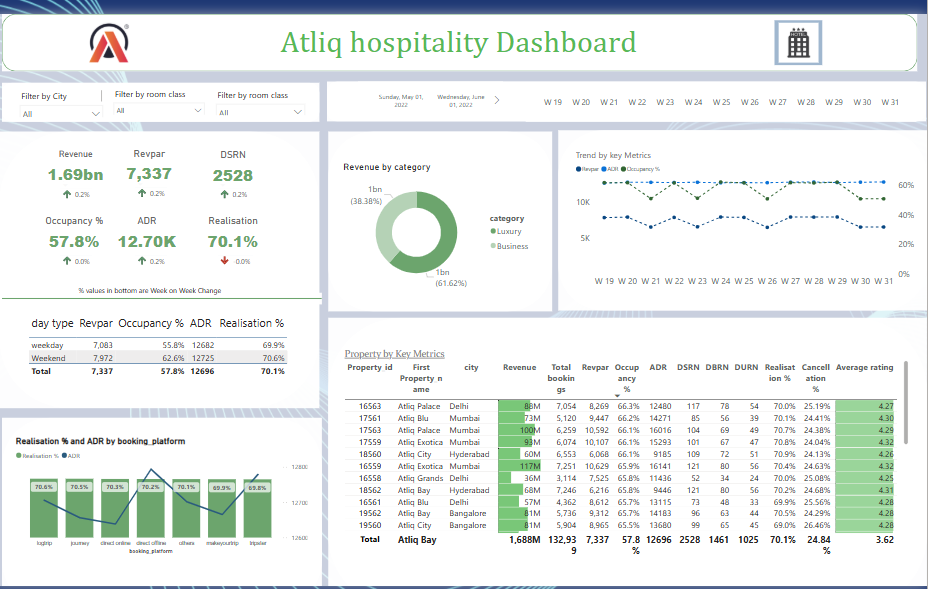

This screenshot's page, from the dashboard's own definition file:
{"tool":"powerbi","page":{"name":"Home","canvas":[1800,1100],"ordinal":2},"visuals":[{"type":"shape","box":[646.9,585.7,1153.1,559.2],"z":0},{"type":"shape","box":[1089.8,224.5,710.2,346.9],"z":1000},{"type":"shape","box":[647,226.7,431.3,346.5],"z":2000},{"type":"shape","box":[18.4,777.6,616.3,367.3],"z":3000},{"type":"shape","box":[14.7,226.7,615.6,532.7],"z":4000},{"type":"shape","box":[646.2,130.8,1153.8,76.9],"z":5000},{"type":"shape","box":[19.2,132.7,611.5,75],"z":6000},{"type":"pivotTable","title":"Property by Key Metrics","fields":{"Rows":["dim_hotels.property_id"],"Values":["Min(dim_hotels.Property_name)","Min(dim_hotels.city)","dim_date.Revenue","dim_date.total bookings","dim_date.Revpar","dim_date.Occupancy %","dim_date.ADR","dim_date.DSRN","dim_date.DBRN","dim_date.DURN","dim_date.Realisation %","dim_date.Cancellation %"]},"box":[678.3,643.3,1085.6,401.8],"z":7000},{"type":"slicer","fields":{"Values":["dim_hotels.City"]},"box":[44.2,141.9,180.6,57.1],"z":8000},{"type":"slicer","fields":{"Values":["dim_date.mmm yy"]},"box":[704.1,130.9,278.3,71.9],"z":9000},{"type":"slicer","fields":{"Values":["dim_rooms.room_class"]},"box":[224.9,138.2,195.4,57.1],"z":10000},{"type":"slicer","fields":{"Values":["dim_rooms.room_class"]},"box":[420.2,140.1,191.7,55.3],"z":11000},{"type":"donutChart","fields":{"Category":["dim_hotels.category"],"Y":["dim_date.Revenue"]},"box":[672.8,283.8,377.9,252.5],"z":12000},{"type":"lineChart","title":"Trend by key Metrics","fields":{"Category":["dim_date.mmm yy.Variation.Date Hierarchy.Year","dim_date.mmm yy.Variation.Date Hierarchy.Month","dim_date.week no"],"Y":["dim_date.Revpar","dim_date.ADR"],"Y2":["dim_date.Occupancy %"]},"box":[1118.8,259.9,661.7,276.5],"z":13000},{"type":"lineStackedColumnComboChart","fields":{"Category":["fact_bookings.booking_platform"],"Y":["dim_date.Realisation %"],"Y2":["dim_date.ADR"]},"box":[40.5,811,571.4,234.1],"z":14000},{"type":"tableEx","fields":{"Values":["dim_date.day type","dim_date.Revpar","dim_date.Occupancy %","dim_date.ADR","dim_date.Realisation %"]},"box":[64.5,573.2,532.7,140.1],"z":15000},{"type":"slicer","fields":{"Values":["dim_date.week no"]},"box":[1028.8,132.7,751.9,75],"z":16000},{"type":"tableEx","fields":{"Values":["dim_date.Occupancy WoW change %"]},"box":[125,431.3,75.6,60.8],"z":17000},{"type":"tableEx","fields":{"Values":["dim_date.Revenue WoW change %"]},"box":[429.5,304.1,81.1,60.8],"z":18000},{"type":"tableEx","fields":{"Values":["dim_date.ADR WoW change %"]},"box":[269.1,431.3,82.9,70],"z":19000},{"type":"tableEx","fields":{"Values":["dim_date.Realisation WoW change %"]},"box":[429.1,431.3,84.8,66.4],"z":20000},{"type":"tableEx","fields":{"Values":["dim_date.Revenue WoW change %"]},"box":[125.3,304.1,99.5,60.8],"z":21000},{"type":"card","title":"Revenue","fields":{"Values":["dim_date.Revenue"]},"box":[88.3,260.3,143.8,79.3],"z":22000},{"type":"tableEx","fields":{"Values":["dim_date.Revenue WoW change %"]},"box":[269.1,300.4,82.9,64.5],"z":23000},{"type":"card","title":"Revpar","fields":{"Values":["dim_date.Revpar"]},"box":[231.1,256.6,143.8,79.3],"z":24000},{"type":"card","title":"DSRN","fields":{"Values":["dim_date.DSRN"]},"box":[392.6,259.9,143.8,79.3],"z":25000},{"type":"card","title":"Occupancy %","fields":{"Values":["dim_date.Occupancy %"]},"box":[87.4,387.4,143.8,79.3],"z":26000},{"type":"card","title":"ADR","fields":{"Values":["dim_date.ADR"]},"box":[225.6,387.4,143.8,79.3],"z":27000},{"type":"card","title":"Realisation","fields":{"Values":["dim_date.Realisation %"]},"box":[393.3,387.4,143.8,79.3],"z":28000},{"type":"shape","box":[18.4,536.4,615.6,22.1],"z":29000},{"type":"textbox","box":[162.2,517.9,302.3,29.5],"z":30000},{"type":"shape","box":[18.4,0,1762.1,110.6],"z":31000},{"type":"textbox","box":[536.4,11.1,724.4,86.6],"z":32000},{"type":"image","box":[158.5,11.1,134.6,86.6],"z":33000},{"type":"image","box":[1505.9,11.1,92.2,86.6],"z":34000}]}

Visuals, with their boxes on the page's 1800x1100 design canvas (x1, y1, x2, y2). These are canvas units, not pixel positions in the 929x589 screenshot, which may show the page scaled, cropped or inside an application window:
shape: box(647, 586, 1800, 1145)
shape: box(1090, 224, 1800, 571)
shape: box(647, 227, 1078, 573)
shape: box(18, 778, 635, 1145)
shape: box(15, 227, 630, 759)
shape: box(646, 131, 1800, 208)
shape: box(19, 133, 631, 208)
"Property by Key Metrics" pivotTable: box(678, 643, 1764, 1045)
slicer - dim_hotels.City: box(44, 142, 225, 199)
slicer - dim_date.mmm yy: box(704, 131, 982, 203)
slicer - dim_rooms.room_class: box(225, 138, 420, 195)
slicer - dim_rooms.room_class: box(420, 140, 612, 195)
donutChart - dim_hotels.category x dim_date.Revenue: box(673, 284, 1051, 536)
"Trend by key Metrics" lineChart: box(1119, 260, 1780, 536)
lineStackedColumnComboChart - fact_bookings.booking_platform x dim_date.Realisation %: box(40, 811, 612, 1045)
tableEx - dim_date.day type x dim_date.Revpar: box(64, 573, 597, 713)
slicer - dim_date.week no: box(1029, 133, 1781, 208)
tableEx - dim_date.Occupancy WoW change %: box(125, 431, 201, 492)
tableEx - dim_date.Revenue WoW change %: box(430, 304, 511, 365)
tableEx - dim_date.ADR WoW change %: box(269, 431, 352, 501)
tableEx - dim_date.Realisation WoW change %: box(429, 431, 514, 498)
tableEx - dim_date.Revenue WoW change %: box(125, 304, 225, 365)
"Revenue" card: box(88, 260, 232, 340)
tableEx - dim_date.Revenue WoW change %: box(269, 300, 352, 365)
"Revpar" card: box(231, 257, 375, 336)
"DSRN" card: box(393, 260, 536, 339)
"Occupancy %" card: box(87, 387, 231, 467)
"ADR" card: box(226, 387, 369, 467)
"Realisation" card: box(393, 387, 537, 467)
shape: box(18, 536, 634, 558)
textbox: box(162, 518, 464, 547)
shape: box(18, 0, 1780, 111)
textbox: box(536, 11, 1261, 98)
image: box(158, 11, 293, 98)
image: box(1506, 11, 1598, 98)
